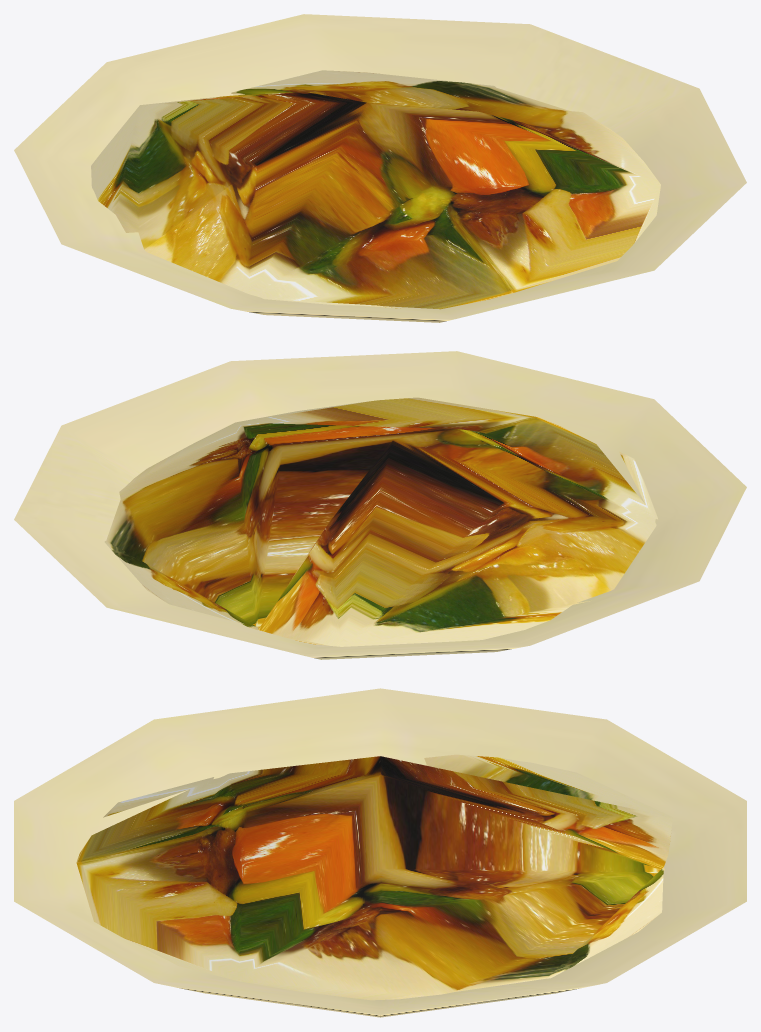
The model's file is Subuta.obj.
The picture shows the model from 3 angles, top to bottom: view 1: azimuth 30°, elevation 25°; view 2: azimuth 150°, elevation 25°; view 3: azimuth 270°, elevation 25°; orthographic projection. The views are drawn at different scales.
Visible parts, largest first — view 1: Salda:pPlane1, Salda:pCylinder1; view 2: Salda:pPlane1, Salda:pCylinder1; view 3: Salda:pPlane1, Salda:pCylinder1.
Boxes of the visible parts, <box> form: Salda:pPlane1: <box>91,70,660,309</box>; Salda:pCylinder1: <box>14,14,746,322</box>; Salda:pPlane1: <box>104,397,657,646</box>; Salda:pCylinder1: <box>14,351,746,659</box>; Salda:pPlane1: <box>76,754,672,1000</box>; Salda:pCylinder1: <box>14,688,746,1017</box>.
Bounding box in the file's own units: 3.44 × 0.7047 × 3.27.
